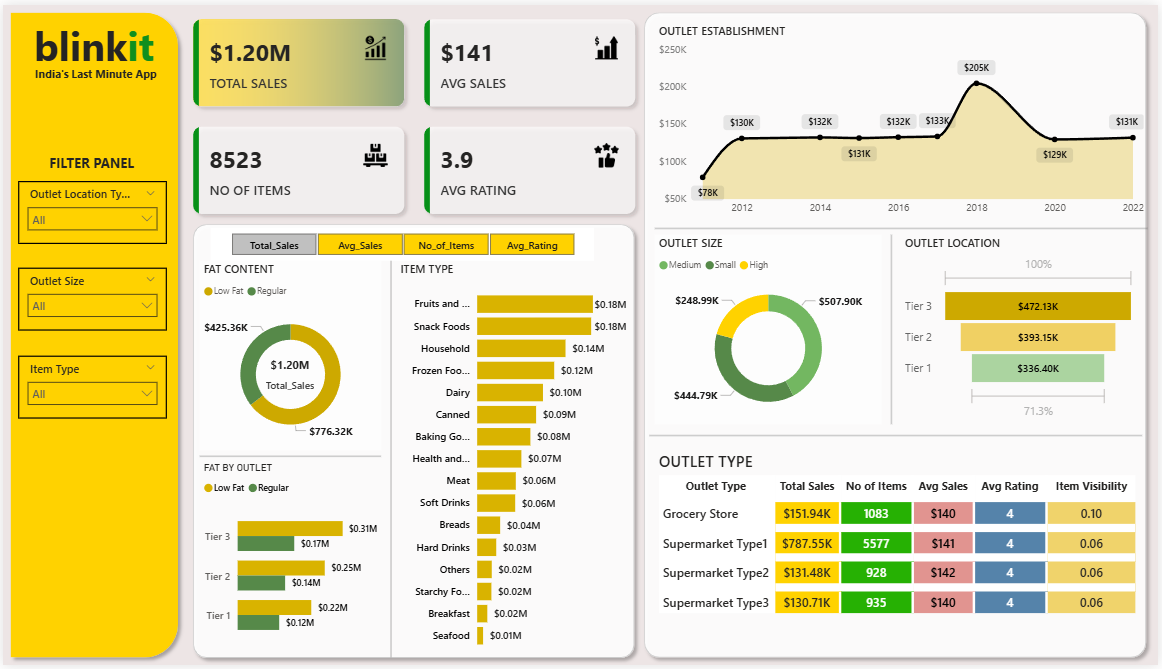

This screenshot's page, from the dashboard's own definition file:
{"tool":"powerbi","page":{"name":"Page 1","canvas":[1400,800],"ordinal":0},"visuals":[{"type":"shape","box":[0,0,221.2,800],"z":0},{"type":"textbox","box":[8.8,11.2,203.8,82.5],"z":1000},{"type":"textbox","box":[18.8,67.5,188.7,31.2],"z":2000},{"type":"cardVisual","fields":{"Data":["BlinkIT Grocery Data.Total_Sales","BlinkIT Grocery Data.Avg_Sales","BlinkIT Grocery Data.No_of_Items","BlinkIT Grocery Data.Avg_Rating"]},"box":[212.5,0,570,270],"z":3000},{"type":"shape","box":[221.2,256.2,552.5,543.8],"z":4000},{"type":"donutChart","title":"FAT CONTENT","fields":{"Y":["BlinkIT Grocery Data.Total_Sales"],"Category":["BlinkIT Grocery Data.Item Fat Content"]},"box":[238.8,310,220,230],"z":5000},{"type":"slicer","fields":{"Values":["Metrics.Metrics"]},"box":[251.2,270,465,40],"z":6000},{"type":"cardVisual","fields":{"Data":["BlinkIT Grocery Data.Total_Sales"]},"box":[294,410,109,67],"z":7000},{"type":"clusteredBarChart","title":"FAT BY OUTLET","fields":{"Y":["BlinkIT Grocery Data.Total_Sales"],"Category":["BlinkIT Grocery Data.Outlet Location Type"],"Series":["BlinkIT Grocery Data.Item Fat Content"]},"box":[239,554,220,230],"z":8000},{"type":"shape","box":[239,540,220,14],"z":9000},{"type":"shape","box":[459,310,24,481],"z":10000},{"type":"barChart","title":"ITEM TYPE","fields":{"Y":["BlinkIT Grocery Data.Total_Sales"],"Category":["BlinkIT Grocery Data.Item Type"]},"box":[476,310,284,481],"z":11000},{"type":"shape","box":[767.5,0,626.2,800],"z":12000},{"type":"shape","box":[790,263.8,597.5,15],"z":13000},{"type":"lineChart","title":"OUTLET ESTABLISHMENT","fields":{"Category":["BlinkIT Grocery Data.Outlet Establishment Year"],"Y":["BlinkIT Grocery Data.Total_Sales"]},"box":[790,21.2,597.5,242.5],"z":14000},{"type":"donutChart","title":"OUTLET SIZE","fields":{"Y":["BlinkIT Grocery Data.Total_Sales"],"Category":["BlinkIT Grocery Data.Outlet Size"]},"box":[790,278.8,275,230],"z":15000},{"type":"shape","box":[1065,278.8,23.8,230],"z":16000},{"type":"funnel","title":"OUTLET LOCATION","fields":{"Category":["BlinkIT Grocery Data.Outlet Location Type"],"Y":["BlinkIT Grocery Data.Total_Sales"]},"box":[1087.5,278.8,288.8,230],"z":17000},{"type":"shape","box":[782.5,515,597.5,13.8],"z":18000},{"type":"pivotTable","title":"OUTLET TYPE","fields":{"Rows":["BlinkIT Grocery Data.Outlet Type"],"Values":["BlinkIT Grocery Data.Total_Sales","BlinkIT Grocery Data.No_of_Items","BlinkIT Grocery Data.Avg_Sales","BlinkIT Grocery Data.Avg_Rating","Avg(BlinkIT Grocery Data.Item Visibility)"]},"box":[790,540,597.5,223.8],"z":19000},{"type":"slicer","fields":{"Values":["BlinkIT Grocery Data.Outlet Location Type"]},"box":[18.8,213.8,180,76.2],"z":20000},{"type":"slicer","fields":{"Values":["BlinkIT Grocery Data.Outlet Size"]},"box":[18.8,317.5,180,76.2],"z":21000},{"type":"slicer","fields":{"Values":["BlinkIT Grocery Data.Item Type"]},"box":[18.8,425,180,76.2],"z":22000},{"type":"textbox","box":[13.8,175,188.7,32.5],"z":23000}]}

Visuals, with their boxes in screenshot pixels (x1, y1, x2, y2), scaled from the page's 1400x800 canvas onto the 1162x669 screenshot:
shape: <region>0, 0, 184, 668</region>
textbox: <region>7, 9, 176, 78</region>
textbox: <region>16, 56, 172, 83</region>
cardVisual - BlinkIT Grocery Data.Total_Sales x BlinkIT Grocery Data.Avg_Sales: <region>176, 0, 649, 226</region>
shape: <region>184, 214, 642, 668</region>
"FAT CONTENT" donutChart: <region>198, 259, 381, 452</region>
slicer - Metrics.Metrics: <region>208, 226, 594, 259</region>
cardVisual - BlinkIT Grocery Data.Total_Sales: <region>244, 343, 334, 399</region>
"FAT BY OUTLET" clusteredBarChart: <region>198, 463, 381, 656</region>
shape: <region>198, 452, 381, 463</region>
shape: <region>381, 259, 401, 661</region>
"ITEM TYPE" barChart: <region>395, 259, 631, 661</region>
shape: <region>637, 0, 1157, 668</region>
shape: <region>656, 221, 1152, 233</region>
"OUTLET ESTABLISHMENT" lineChart: <region>656, 18, 1152, 221</region>
"OUTLET SIZE" donutChart: <region>656, 233, 884, 425</region>
shape: <region>884, 233, 904, 425</region>
"OUTLET LOCATION" funnel: <region>903, 233, 1142, 425</region>
shape: <region>649, 431, 1145, 442</region>
"OUTLET TYPE" pivotTable: <region>656, 452, 1152, 639</region>
slicer - BlinkIT Grocery Data.Outlet Location Type: <region>16, 179, 165, 243</region>
slicer - BlinkIT Grocery Data.Outlet Size: <region>16, 266, 165, 329</region>
slicer - BlinkIT Grocery Data.Item Type: <region>16, 355, 165, 419</region>
textbox: <region>11, 146, 168, 174</region>
